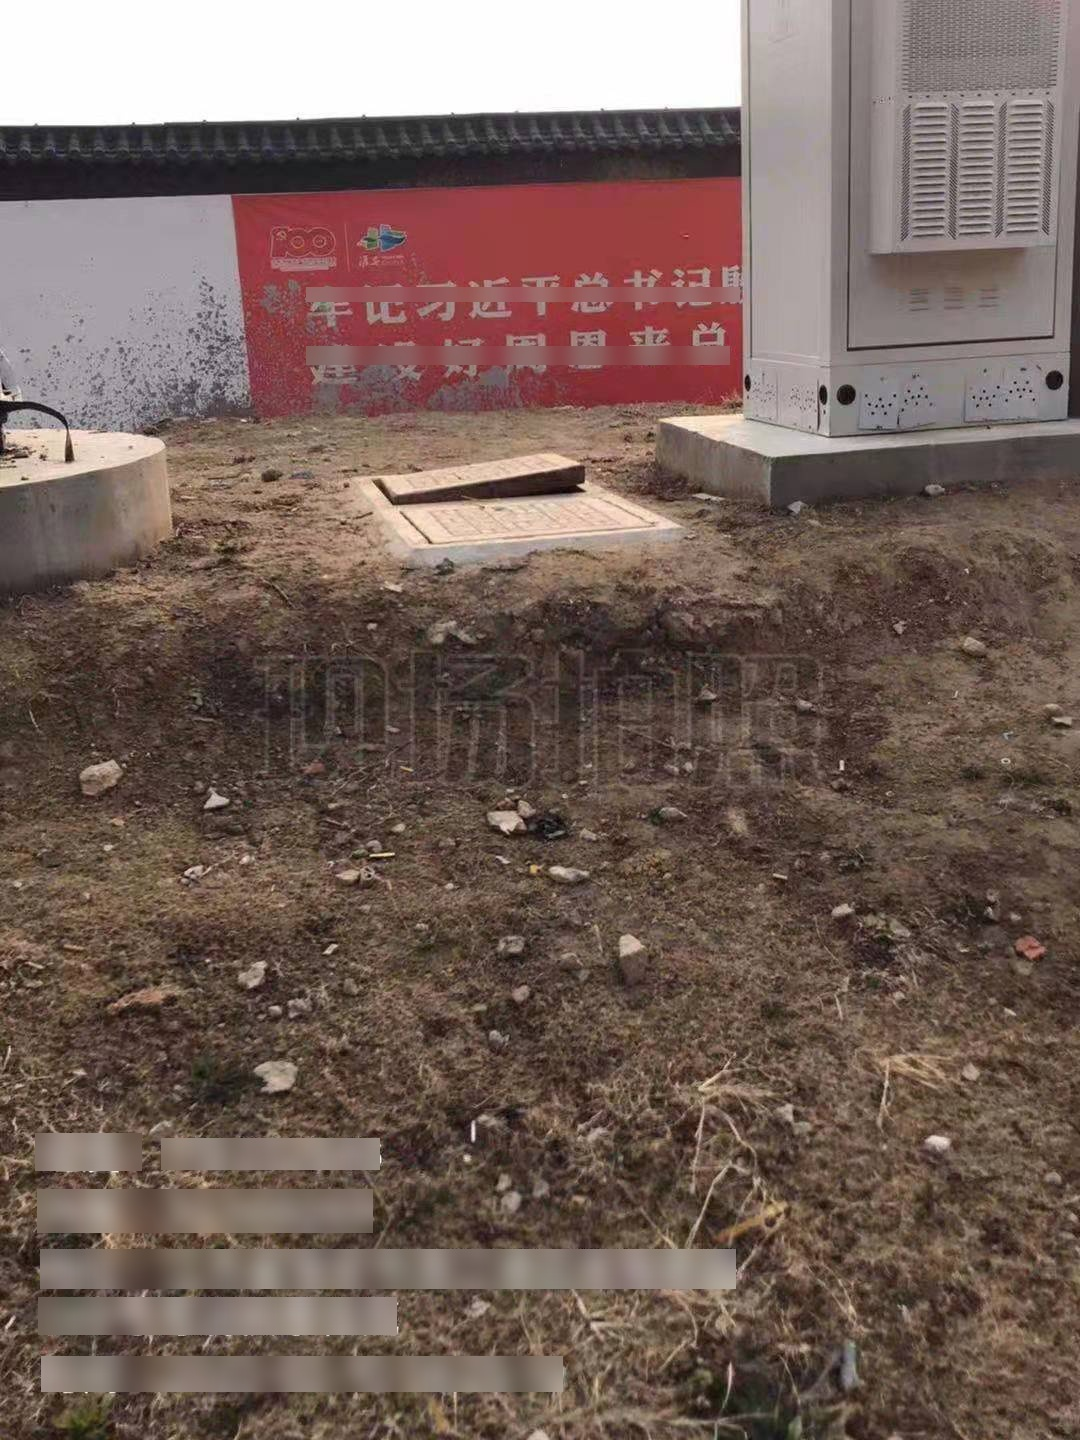well: (362, 454, 643, 547)
